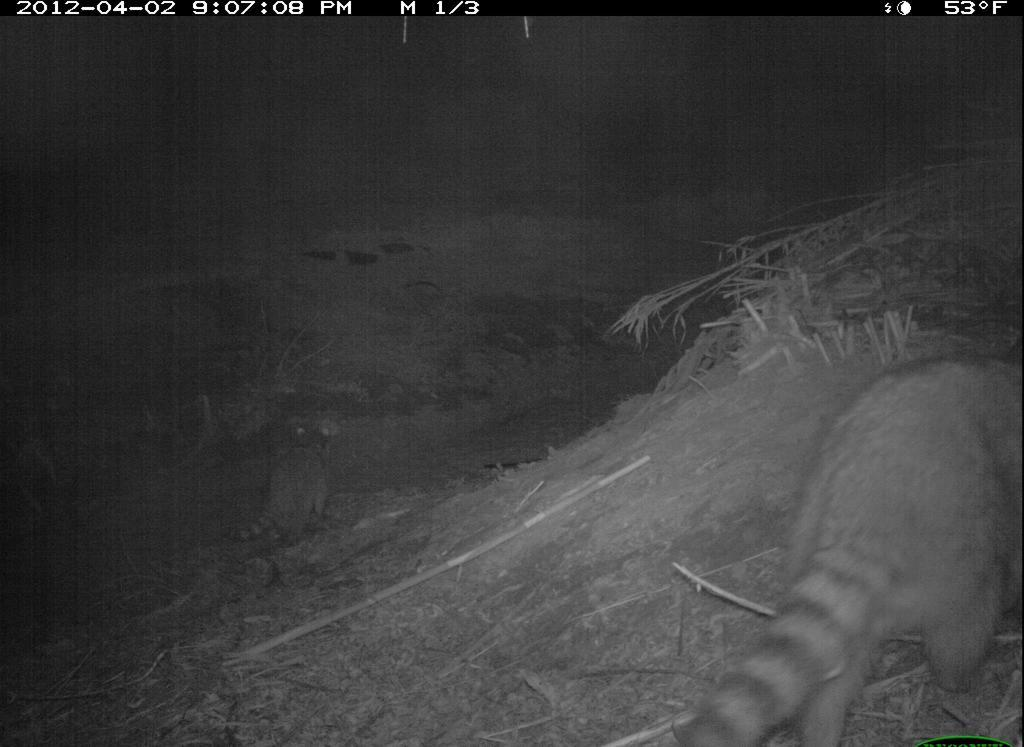raccoon: (655, 318, 1023, 743), (235, 414, 353, 553)
